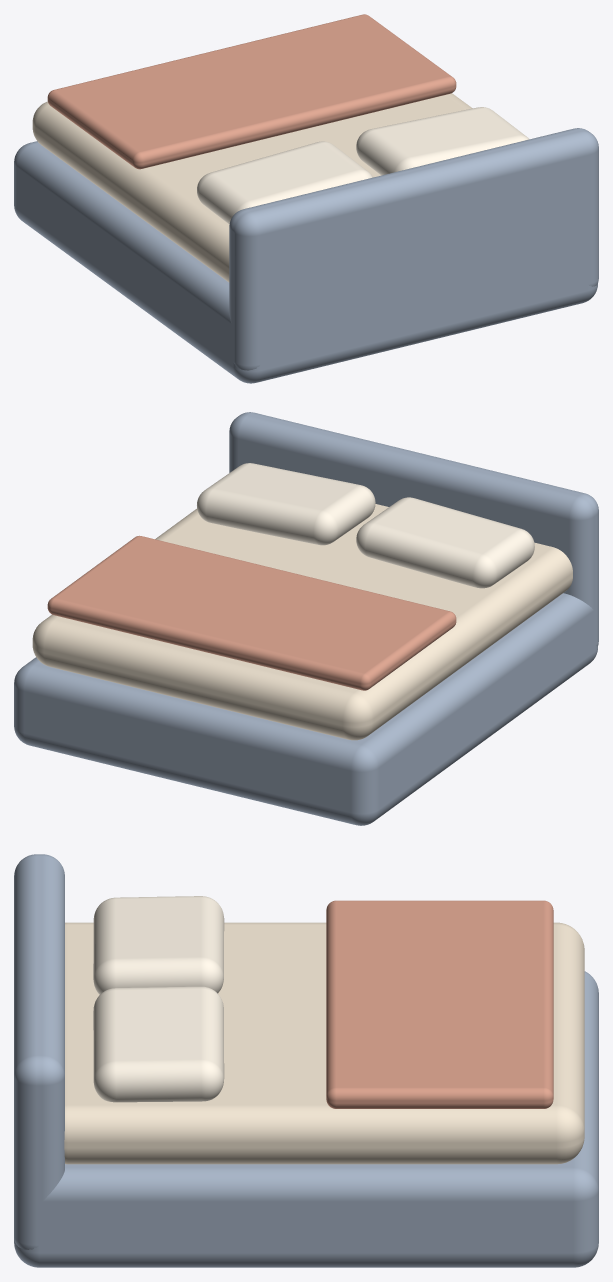
Rendered from bed-soft.glb.
The picture shows the model from 3 angles, top to bottom: view 1: azimuth 30°, elevation 25°; view 2: azimuth 150°, elevation 25°; view 3: azimuth 270°, elevation 25°; orthographic projection. The views are drawn at different scales.
Visible parts, largest first — view 1: frame (×2), blanket, mattress, pillow (×2); view 2: frame (×2), mattress, blanket, pillow (×2); view 3: frame (×2), mattress, blanket, pillow (×2).
Part boxes in pixels (x1,y1,x2,y2): frame (×2): (14,128,598,383); blanket: (47,14,456,169); mattress: (32,93,472,282); pillow (×2): (197,107,529,224); frame (×2): (14,412,598,825); mattress: (32,504,572,740); blanket: (47,535,456,690); pillow (×2): (197,463,534,588); frame (×2): (14,854,598,1267); mattress: (64,922,584,1164); blanket: (326,900,553,1108); pillow (×2): (93,896,224,1102).
Bounding box in the file's own units: 1.82 × 0.82 × 2.06.
